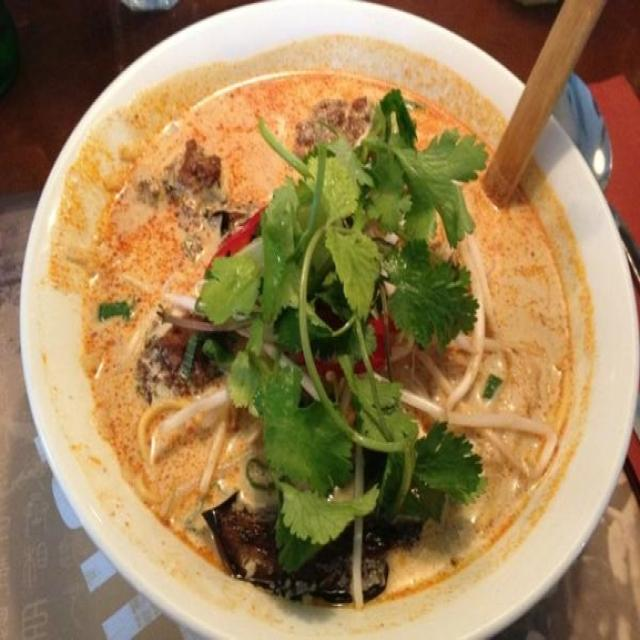面条主食: (55, 28, 579, 605)
